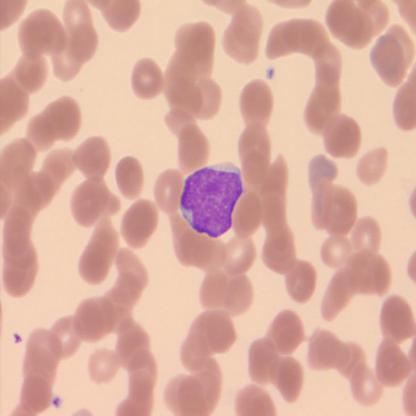Blast: (178, 160, 248, 242)
